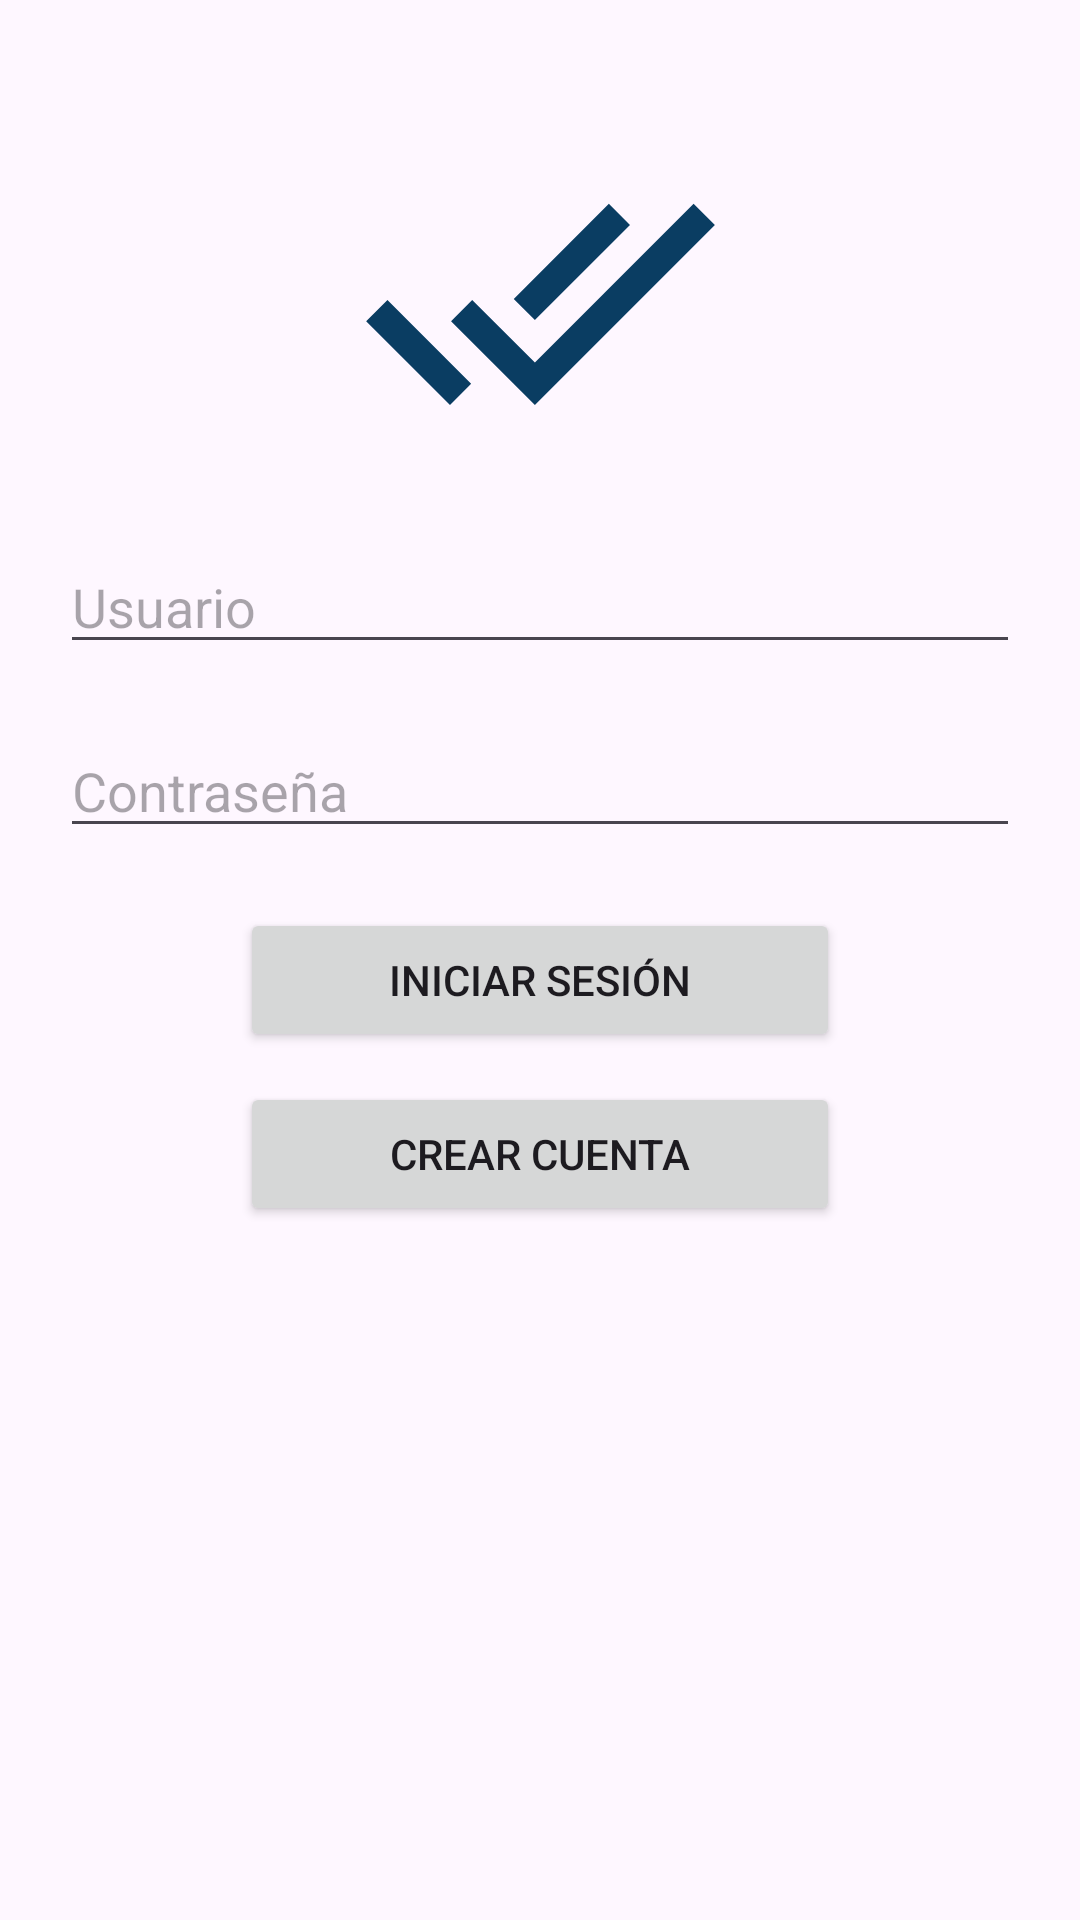

Named icons in this screenshot (1080px x 1920px) and their bounding boxes, (x1, y1, x2, y2):
done all: (366, 204, 715, 405)
